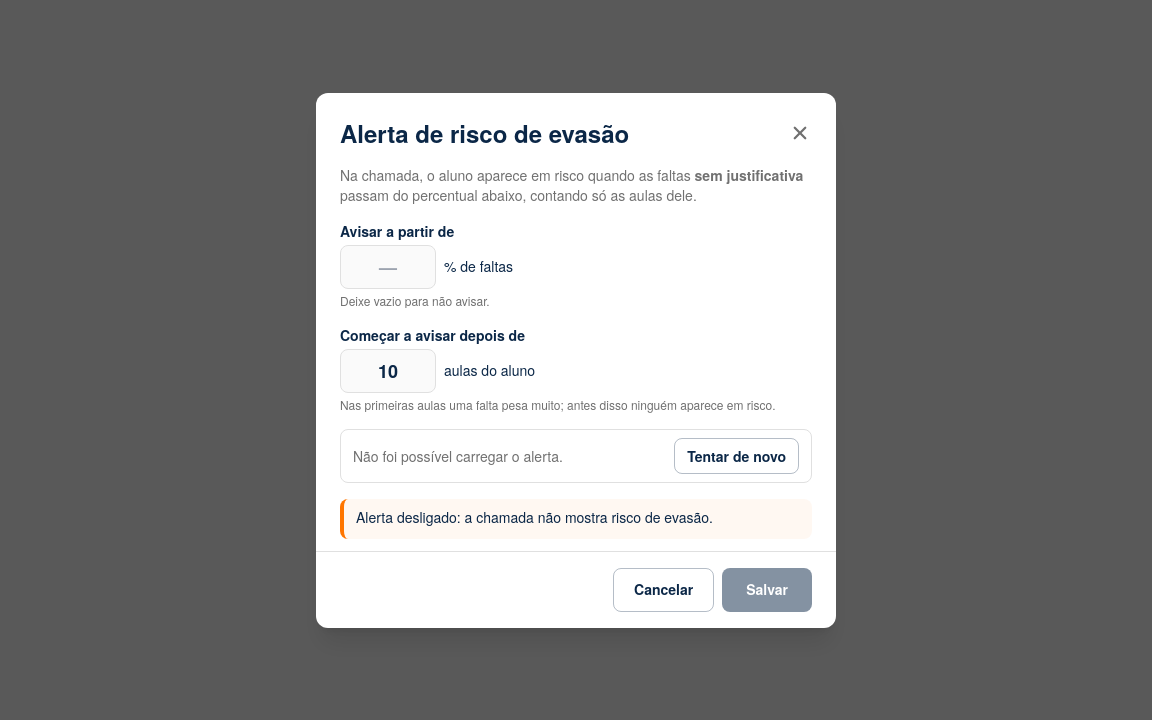
Test: AlertaEvasaoModal (tickets/054, card 03) › ⚠️ falha ao carregar: mostra Tentar de novo e recarrega
The width and height of the screenshot is (1152, 720).
Step 1. Click the button "Tentar de novo" → (737, 456), box [674,438,799,474]
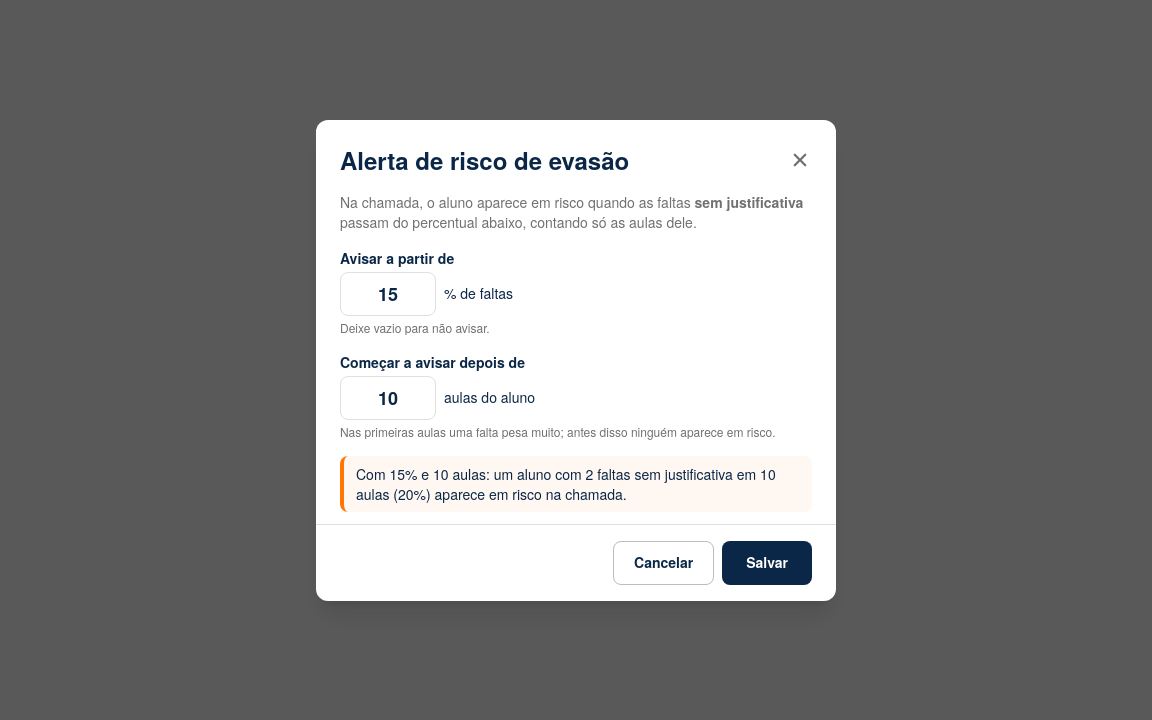
Check: the field named "Percentual de faltas" holds "15", box [340,272,436,316]
Check: the button "Tentar de novo" is gone
